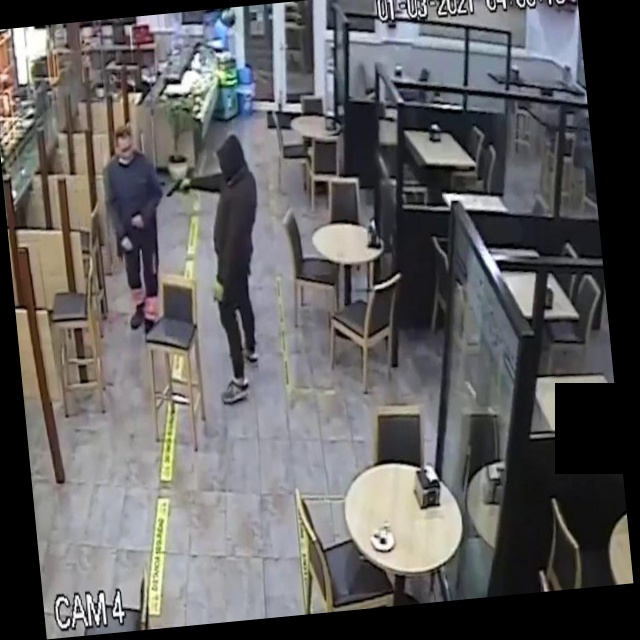gun: (152, 162, 196, 209)
